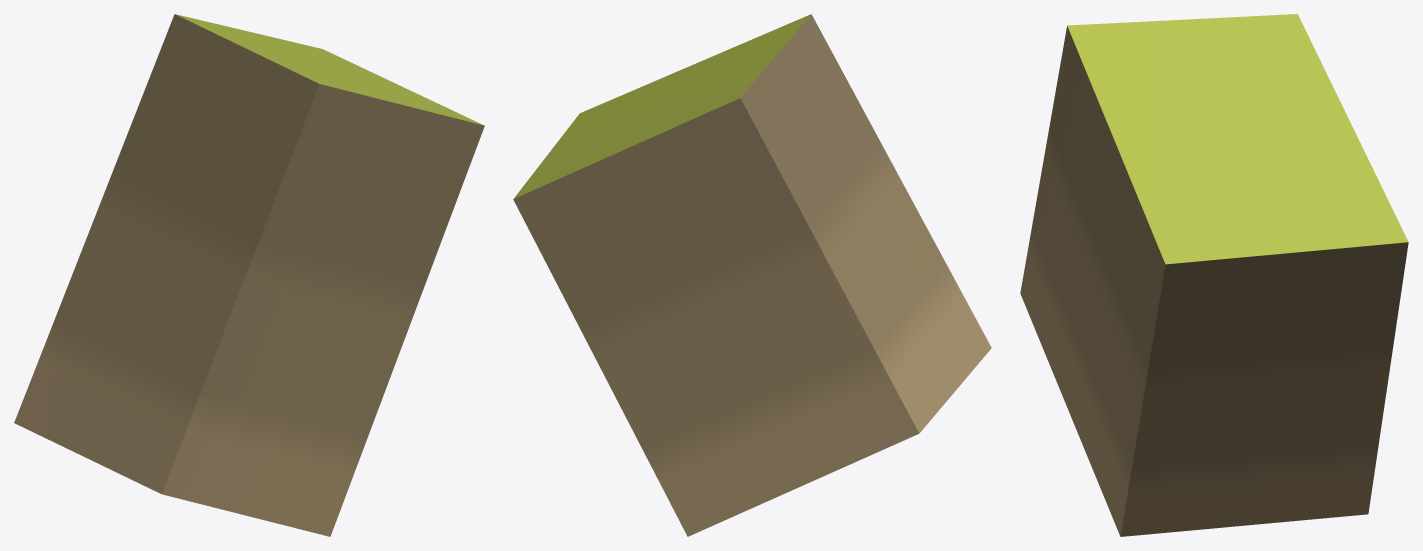
The model's file is 065a_Burundi.glb.
The picture shows the model from 3 angles, left to right: view 1: azimuth 30°, elevation 25°; view 2: azimuth 150°, elevation 25°; view 3: azimuth 270°, elevation 25°; orthographic projection. The views are drawn at different scales.
Parts seen in each view (by area): view 1: part_0; view 2: part_0; view 3: part_0.
Boxes of the visible parts, x1,y1,x2,y2 form: part_0: (14,14,484,536); part_0: (513,14,991,536); part_0: (1020,14,1408,536).
Bounding box in the file's own units: 0.2237 × 0.2408 × 0.172.
Materials: 1 (1 with a texture image).
